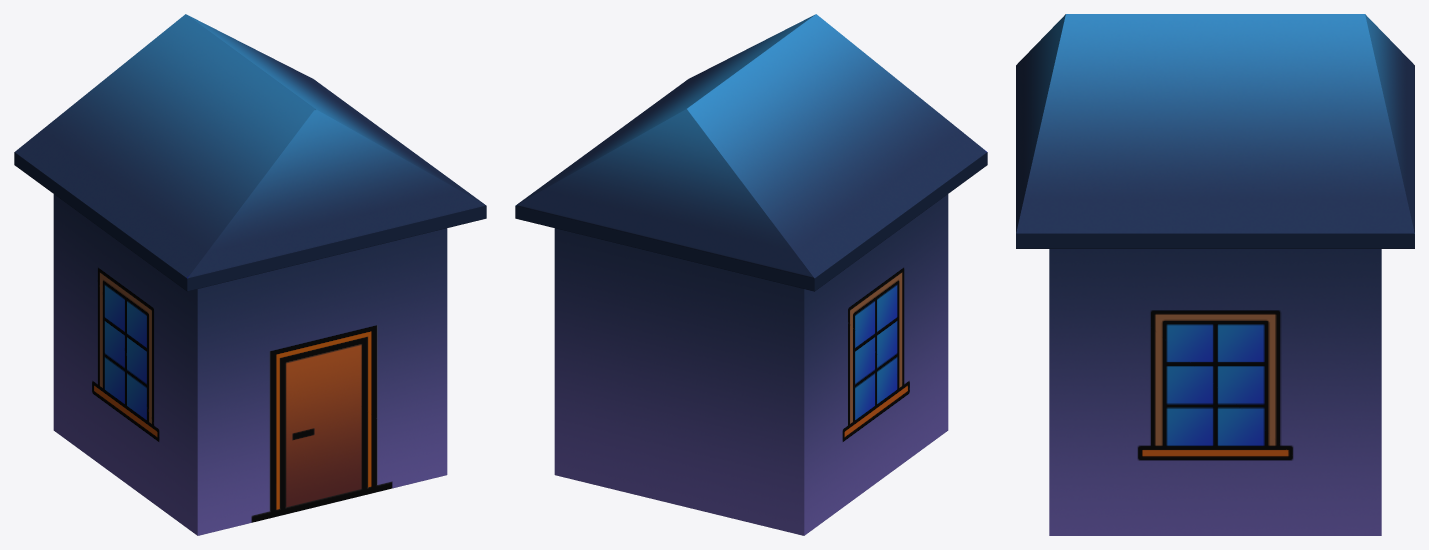
Rendered from house.gltf.
The picture shows the model from 3 angles, left to right: view 1: azimuth 30°, elevation 25°; view 2: azimuth 150°, elevation 25°; view 3: azimuth 270°, elevation 25°; orthographic projection. The views are drawn at different scales.
Parts seen in each view (by area): view 1: Body, Roof; view 2: Body, Roof; view 3: Body, Roof.
Part boxes in pixels (x1,y1,x2,y2): Body: (53,194,447,535); Roof: (14,14,486,291); Body: (554,194,948,535); Roof: (515,14,987,291); Body: (1049,249,1381,535); Roof: (1016,14,1414,248).
Size of the model in its own units: 2.4 by 3 by 2.4.
Materials: 2 (2 with a texture image).
